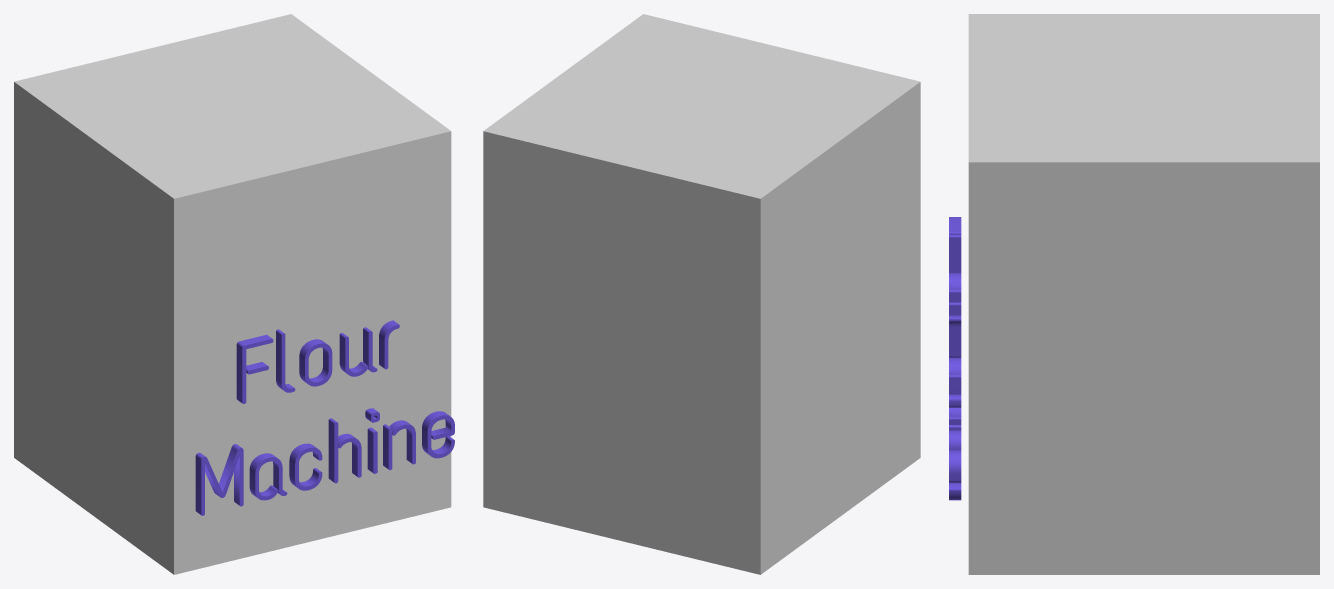
The model's file is FlourMachineNeon.fbx.
The picture shows the model from 3 angles, left to right: view 1: azimuth 30°, elevation 25°; view 2: azimuth 150°, elevation 25°; view 3: azimuth 270°, elevation 25°; orthographic projection. The views are drawn at different scales.
Visible parts, largest first — view 1: Cube, Text; view 2: Cube; view 3: Cube, Text.
Part boxes in pixels (x1,y1,x2,y2): Cube: [14, 14, 451, 574]; Text: [195, 320, 454, 515]; Cube: [483, 14, 920, 574]; Cube: [968, 14, 1319, 574]; Text: [949, 217, 961, 500].
Size of the model in its own units: 200 by 259 by 211.
